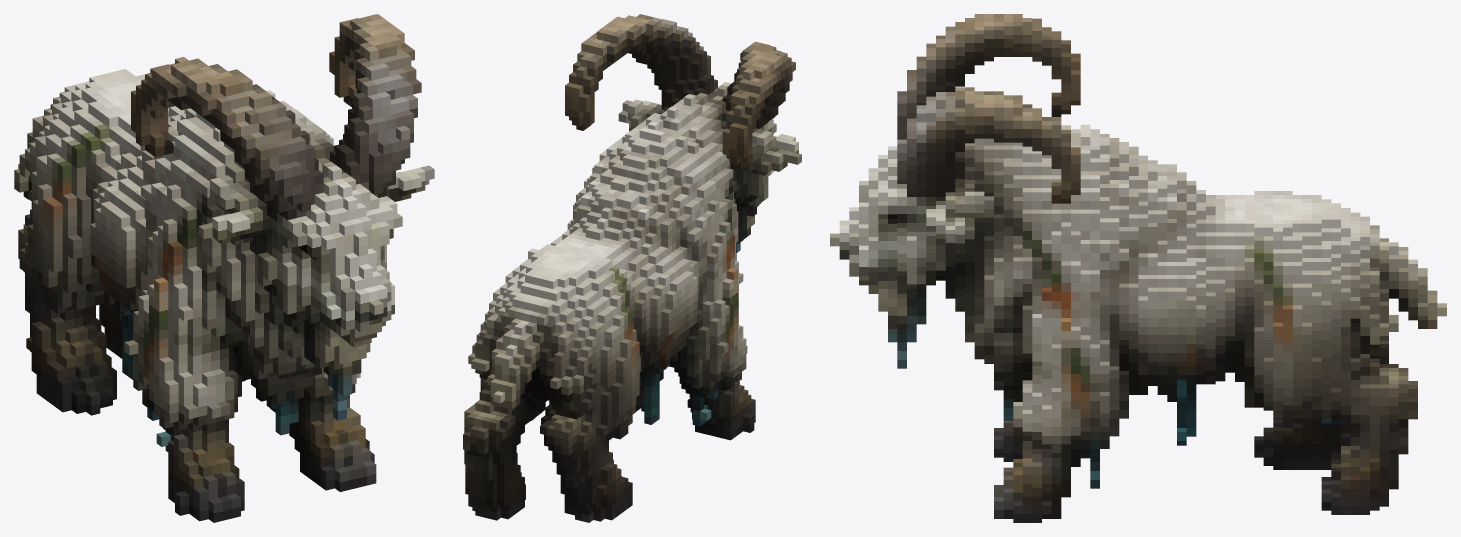
The model's file is u_chevre.glb.
The picture shows the model from 3 angles, left to right: view 1: azimuth 30°, elevation 25°; view 2: azimuth 150°, elevation 25°; view 3: azimuth 270°, elevation 25°; orthographic projection. The views are drawn at different scales.
Parts seen in each view (by area): view 1: chevre_body; view 2: chevre_body; view 3: chevre_body.
Boxes of the visible parts, <box> form: chevre_body: <box>14,14,434,522</box>; chevre_body: <box>463,14,801,522</box>; chevre_body: <box>830,14,1446,522</box>.
Bounding box in the file's own units: 0.5469 × 1.05 × 1.4.
1 material, 1 textured.
